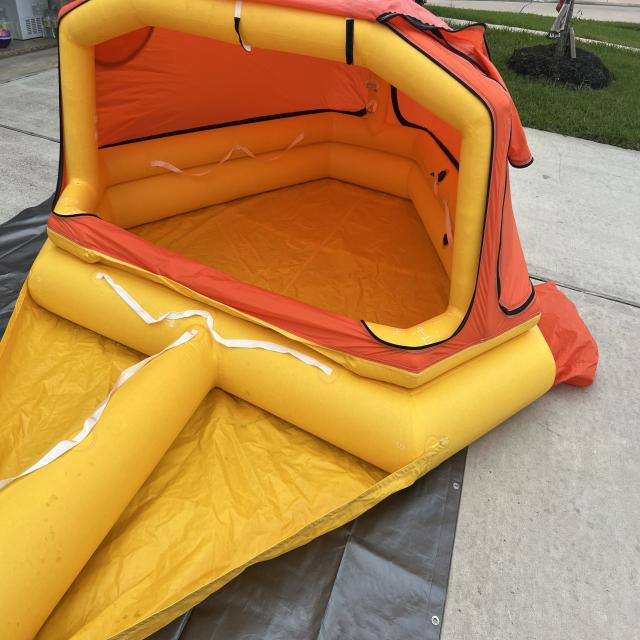Multi-person_life_raft: (0, 0, 598, 639)
